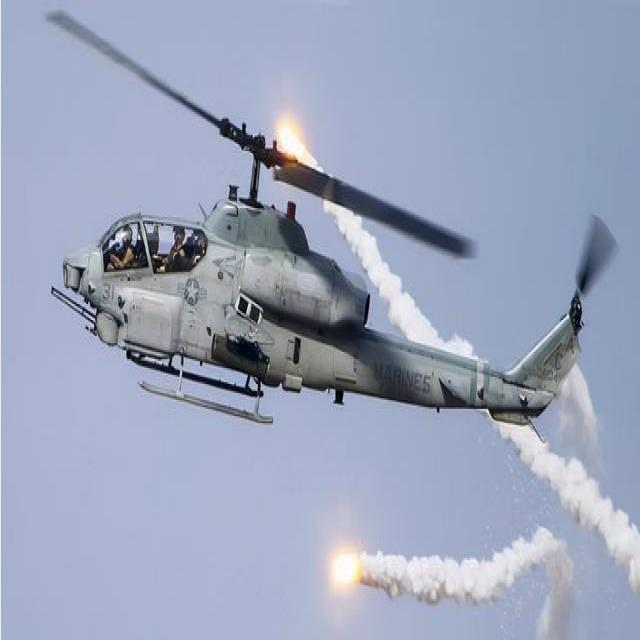MIL_HELO: (39, 10, 640, 451)
